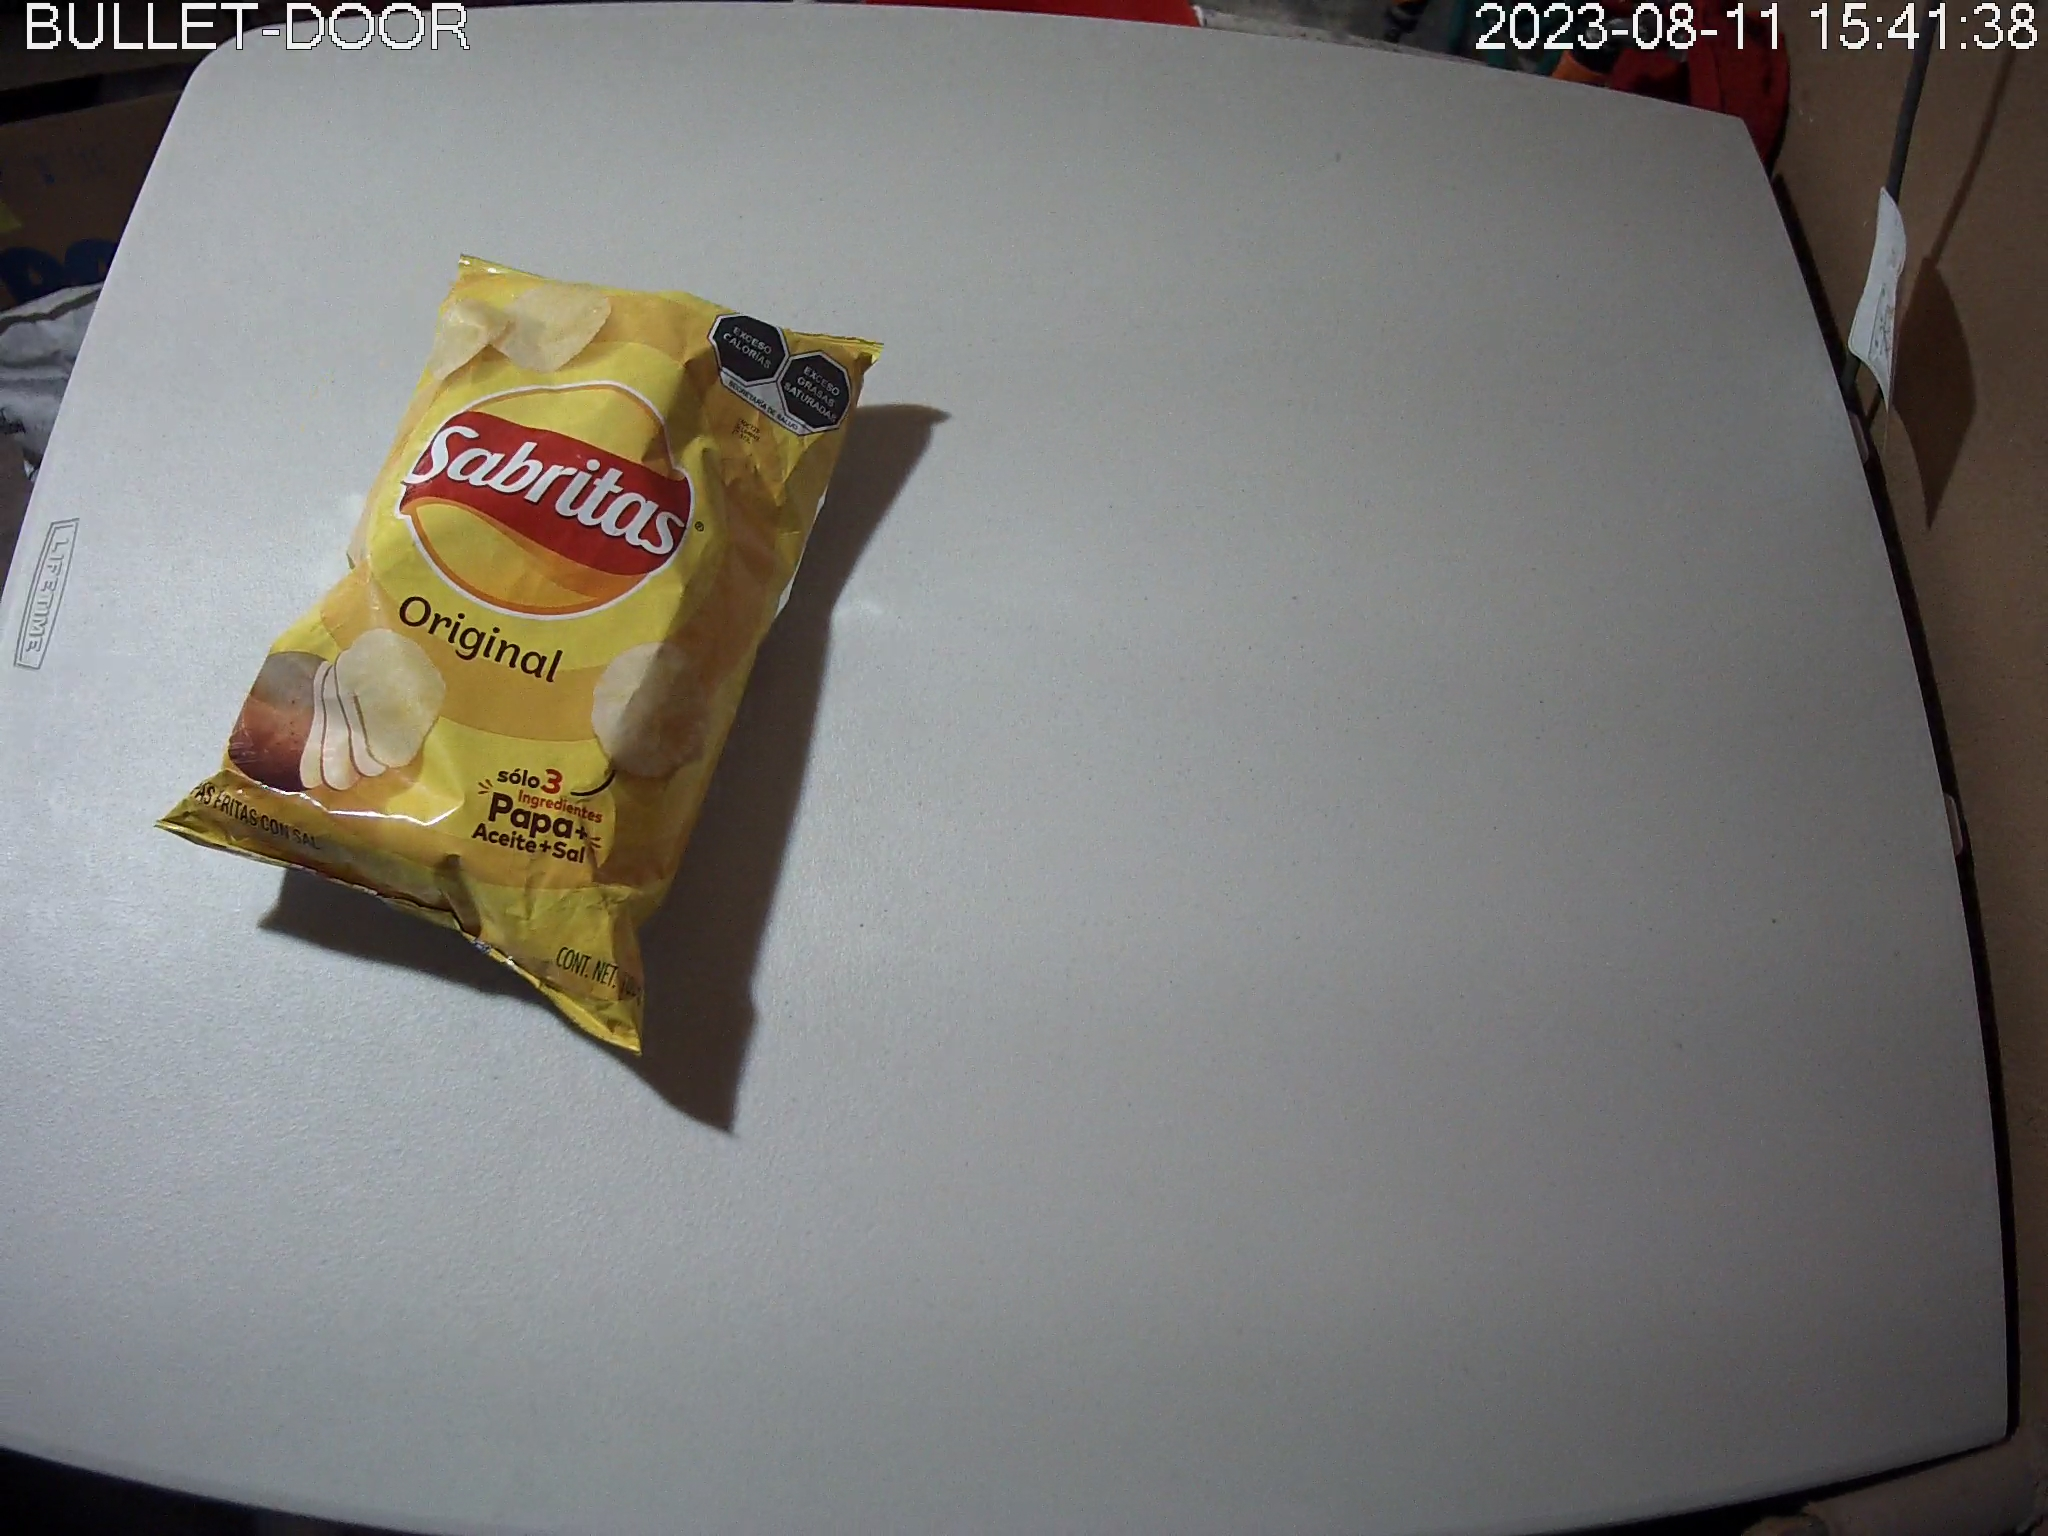Sabritas_160_F: (153, 252, 885, 1058)
